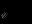person: (1, 11, 8, 19)
